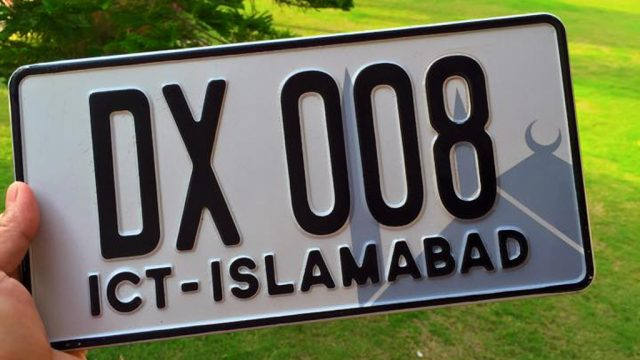0: (273, 67, 354, 237), (349, 57, 425, 230)
8: (420, 53, 510, 221)
A: (456, 228, 497, 278), (384, 237, 424, 284), (299, 248, 336, 295)
B: (420, 232, 457, 281)
C: (103, 265, 145, 316)
D: (84, 85, 166, 261), (492, 223, 530, 272)
I: (83, 271, 105, 319), (204, 256, 225, 305)
L: (260, 253, 297, 297)
M: (336, 238, 381, 290)
S: (227, 252, 260, 302)
T: (143, 262, 173, 311)
X: (160, 73, 243, 253)
